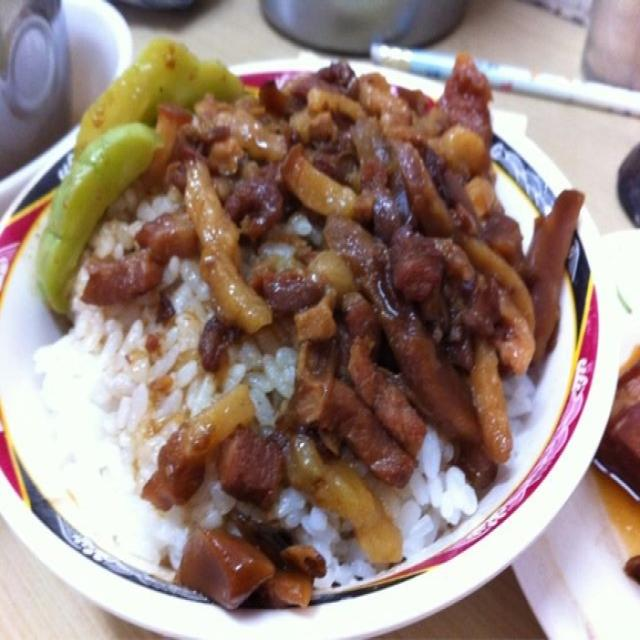猪肉菜式: (18, 21, 608, 626)
